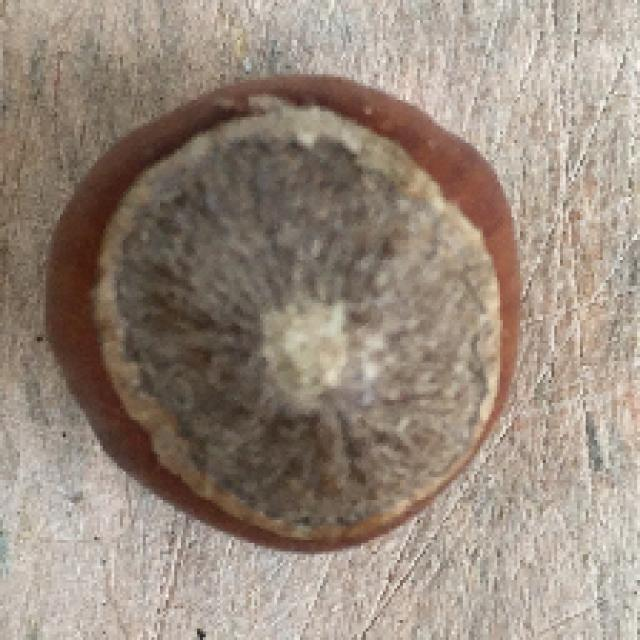qualityHazelnut: (44, 75, 530, 550)
